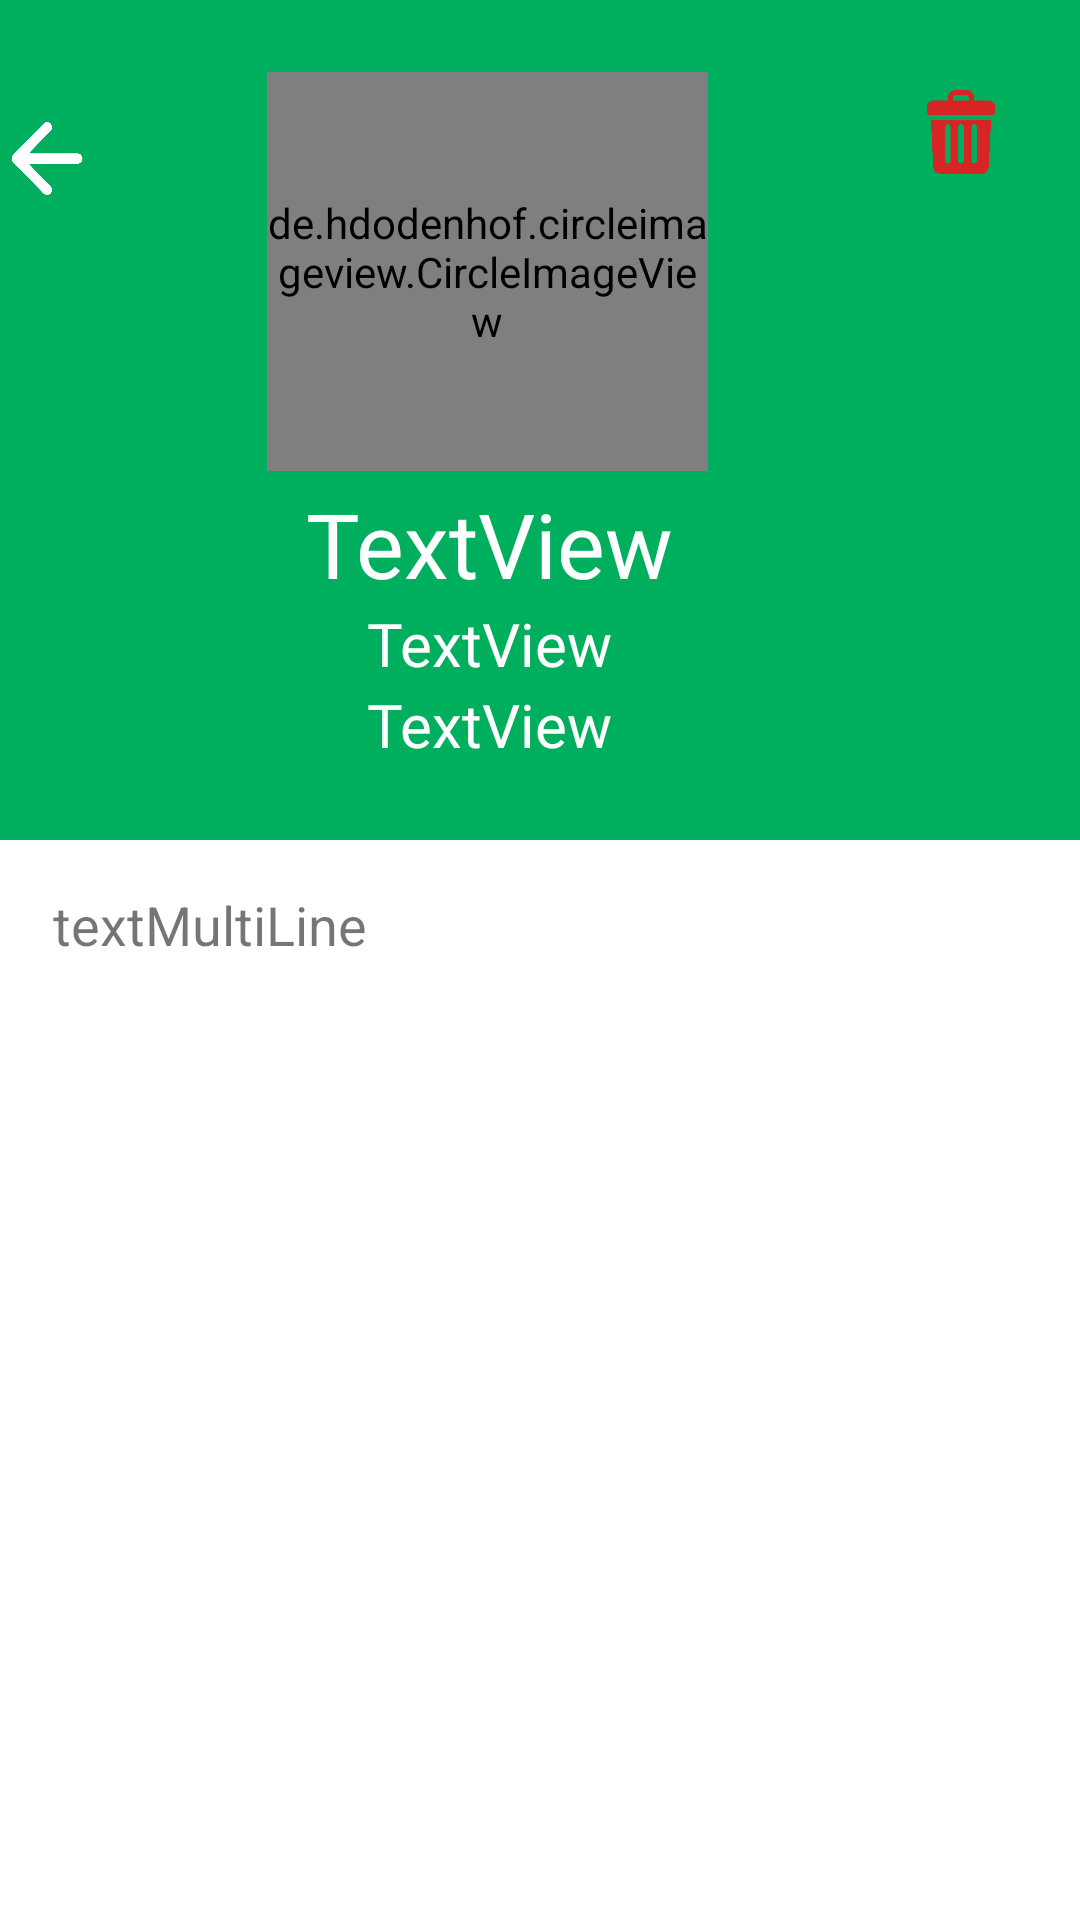

Named icons in this screenshot (1080px×1920px) and their centers, (x,y):
trash: (961,132)
